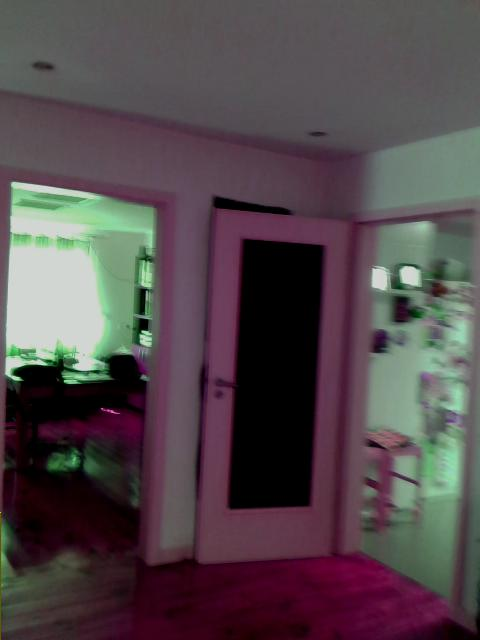open_door: (334, 194, 479, 559)
